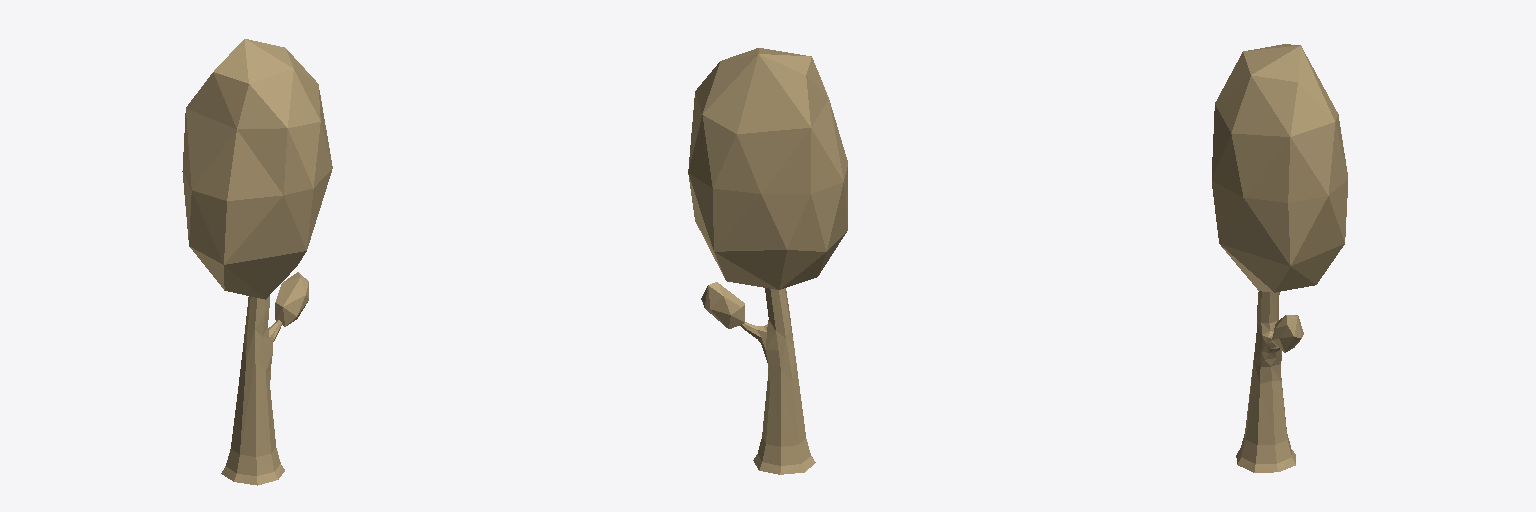
Rendered from tree0.obj.
3 views of the same model, side by side, from view 1: azimuth 30°, elevation 25°; view 2: azimuth 150°, elevation 25°; view 3: azimuth 270°, elevation 25° (orthographic).
Parts seen in each view (by area): view 1: Object_84; view 2: Object_84; view 3: Object_84.
Part boxes in pixels (x1,y1,x2,y2): Object_84: (182,39,332,485); Object_84: (688,48,847,474); Object_84: (1212,44,1347,472).
Bounding box in the file's own units: 33.03 × 94.62 × 27.96.